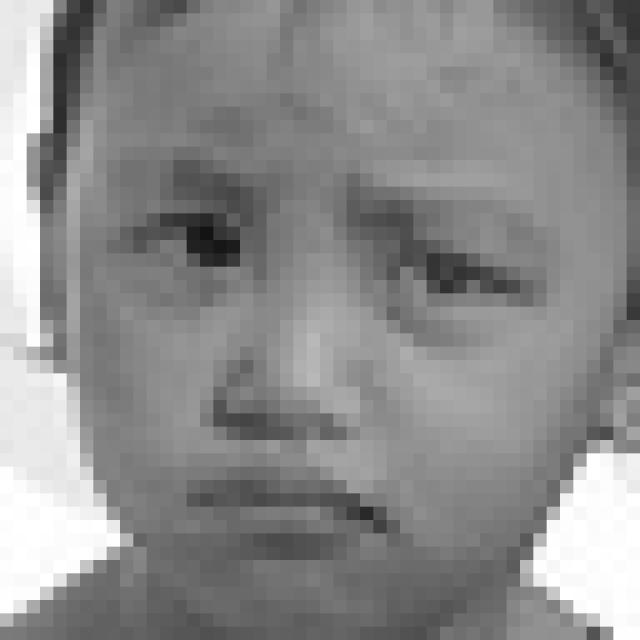sad: (107, 135, 551, 559)
